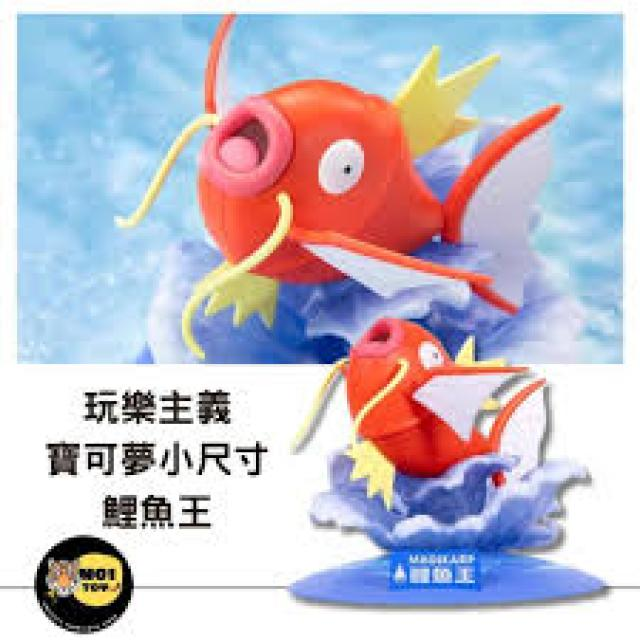Magikarp: (192, 74, 529, 305), (346, 317, 548, 498)
